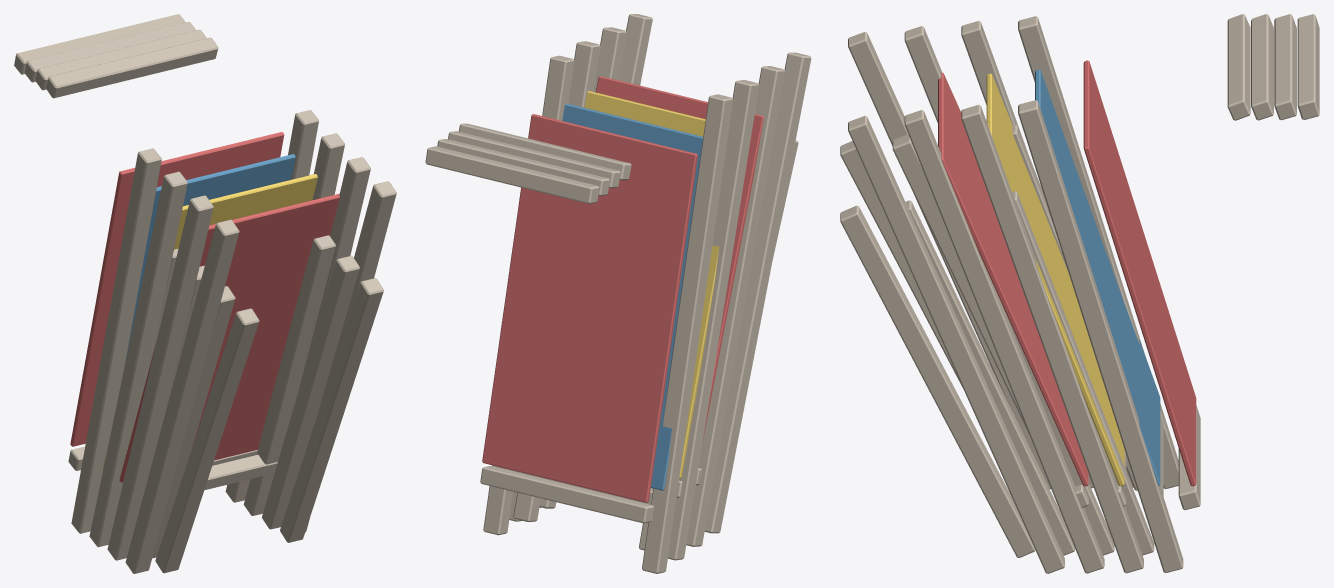
Rendered from amusement-arcade-and-seaside-pier-deckchair-stack-f46e735f__35421.glb.
3 views of the same model, side by side, from view 1: azimuth 30°, elevation 25°; view 2: azimuth 150°, elevation 25°; view 3: azimuth 270°, elevation 25° (orthographic). The views are drawn at different scales.
Visible parts, largest first — view 1: deckchair-stack; view 2: deckchair-stack; view 3: deckchair-stack.
Part boxes in pixels (<box>): deckchair-stack: <box>14,14,396,573</box>; deckchair-stack: <box>425,14,811,573</box>; deckchair-stack: <box>840,14,1319,573</box>.
Size of the model in its own units: 0.53 by 1.26 by 1.16.
